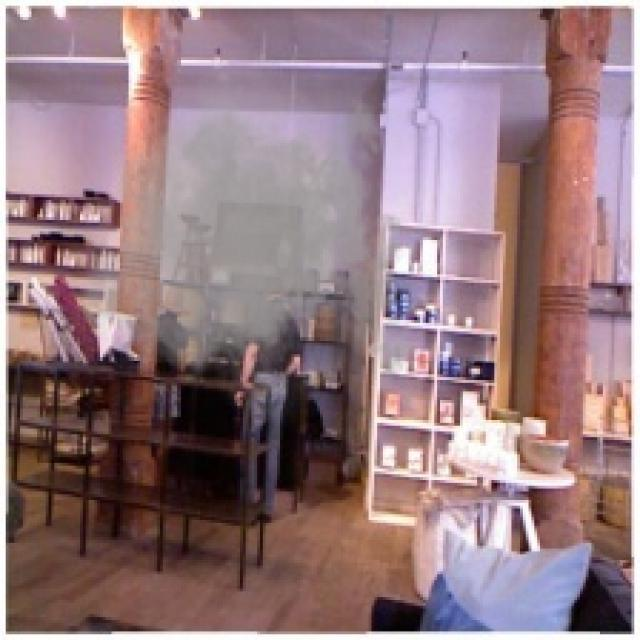Smoke: (77, 40, 423, 437)
